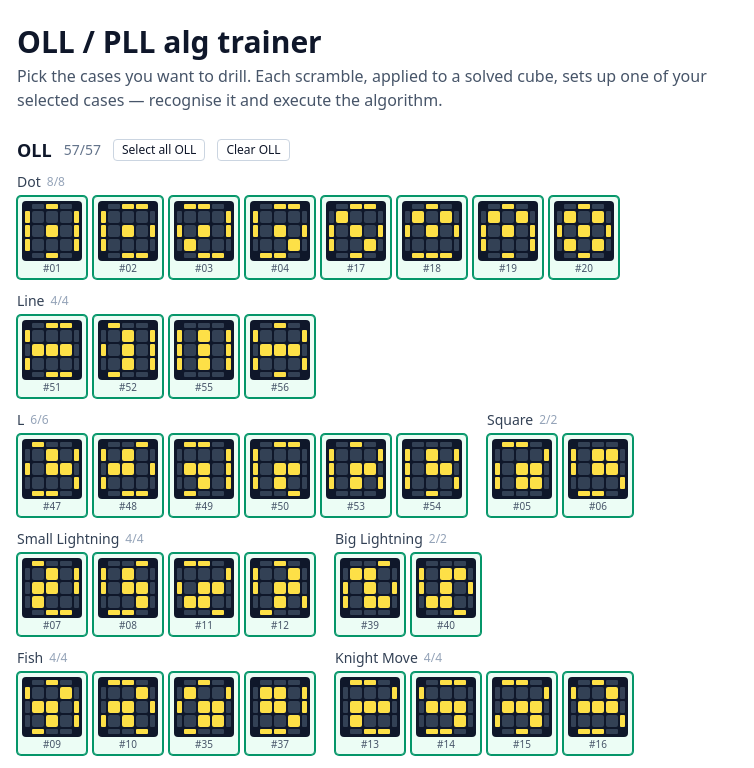
Test: TrainerAlgSet › hides the case name until revealed
What coordinates should you click on to do the following:
click the button "Clear OLL"
I would click on:
 (254, 150)
Its box is x1=217 y1=139 x2=290 y2=161.
(page scrolled)
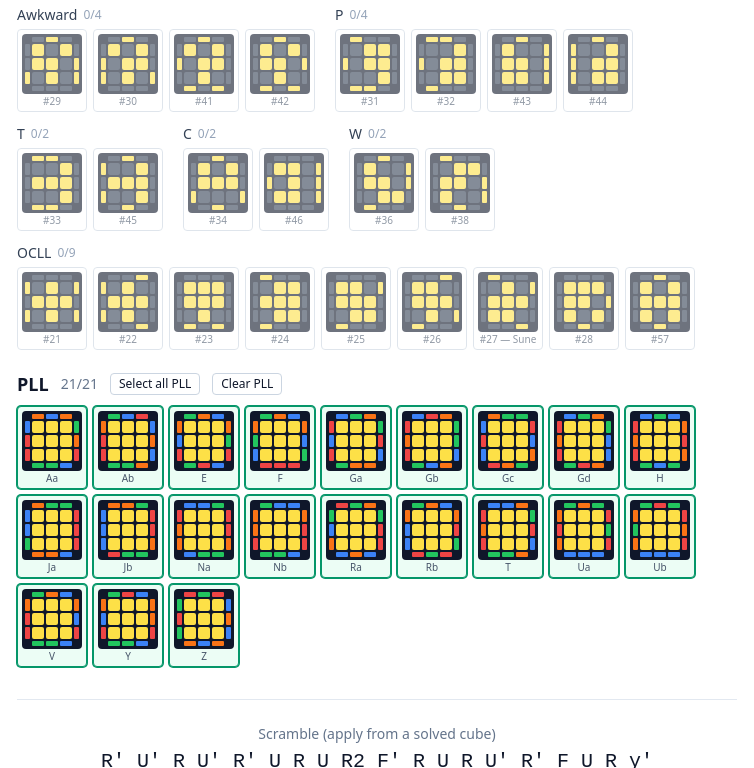
What coordinates should you click on to do the following:
click the button "Clear PLL"
I would click on:
 (247, 384)
Its box is x1=212 y1=373 x2=282 y2=395.
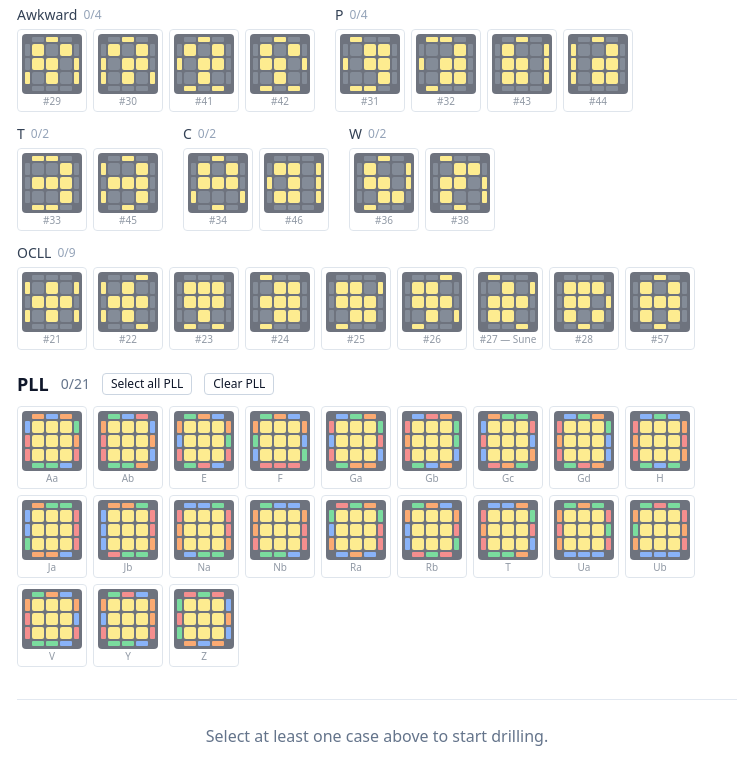
What coordinates should you click on to do the following:
click the button with aria-label "PLL Ja perm"
I would click on:
 (52, 536)
Its box is x1=17 y1=495 x2=87 y2=578.
(page scrolled)
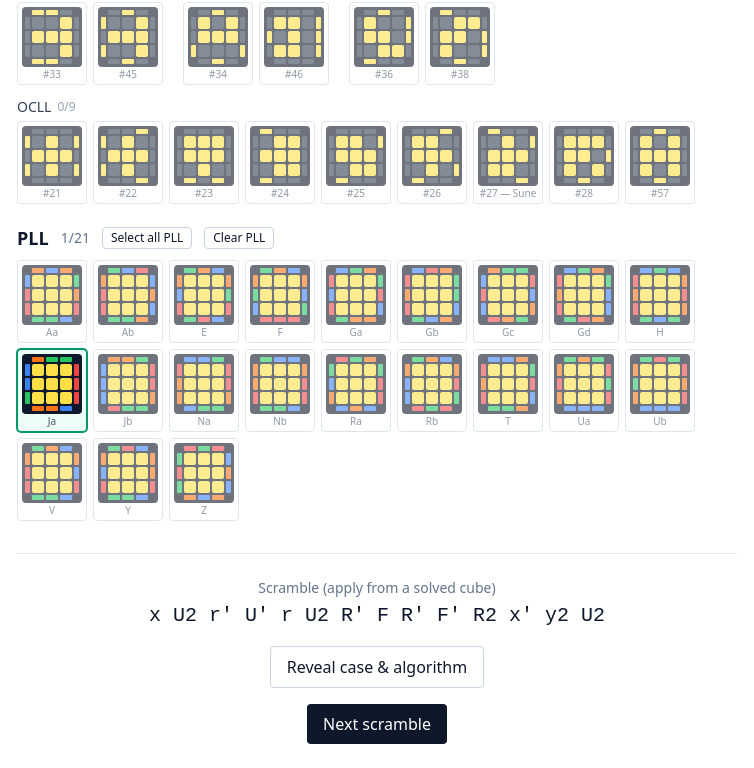
What coordinates should you click on to do the following:
click the button "Reveal case & algorithm"
I would click on:
 (377, 667)
Its box is x1=270 y1=646 x2=484 y2=688.
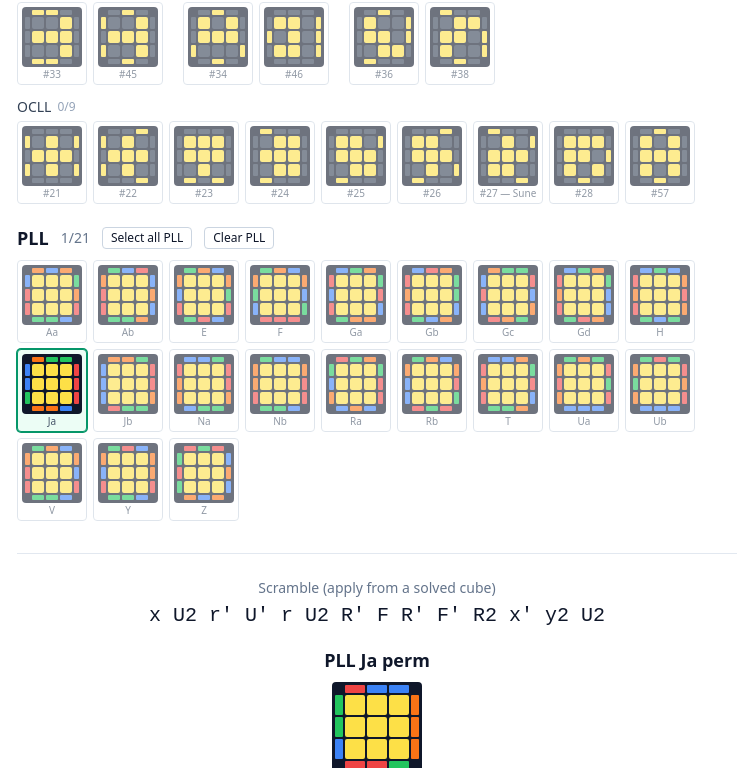
Expected: the text with test id "reveal-name" reads "PLL Ja perm", x1=324 y1=648 x2=430 y2=672
